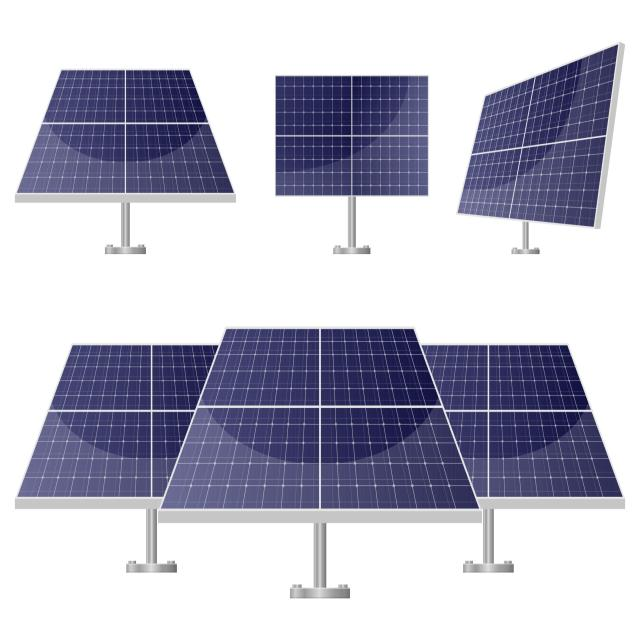clean-solar-panel: (18, 328, 624, 598), (459, 45, 624, 256), (17, 70, 232, 201), (276, 76, 428, 260)
